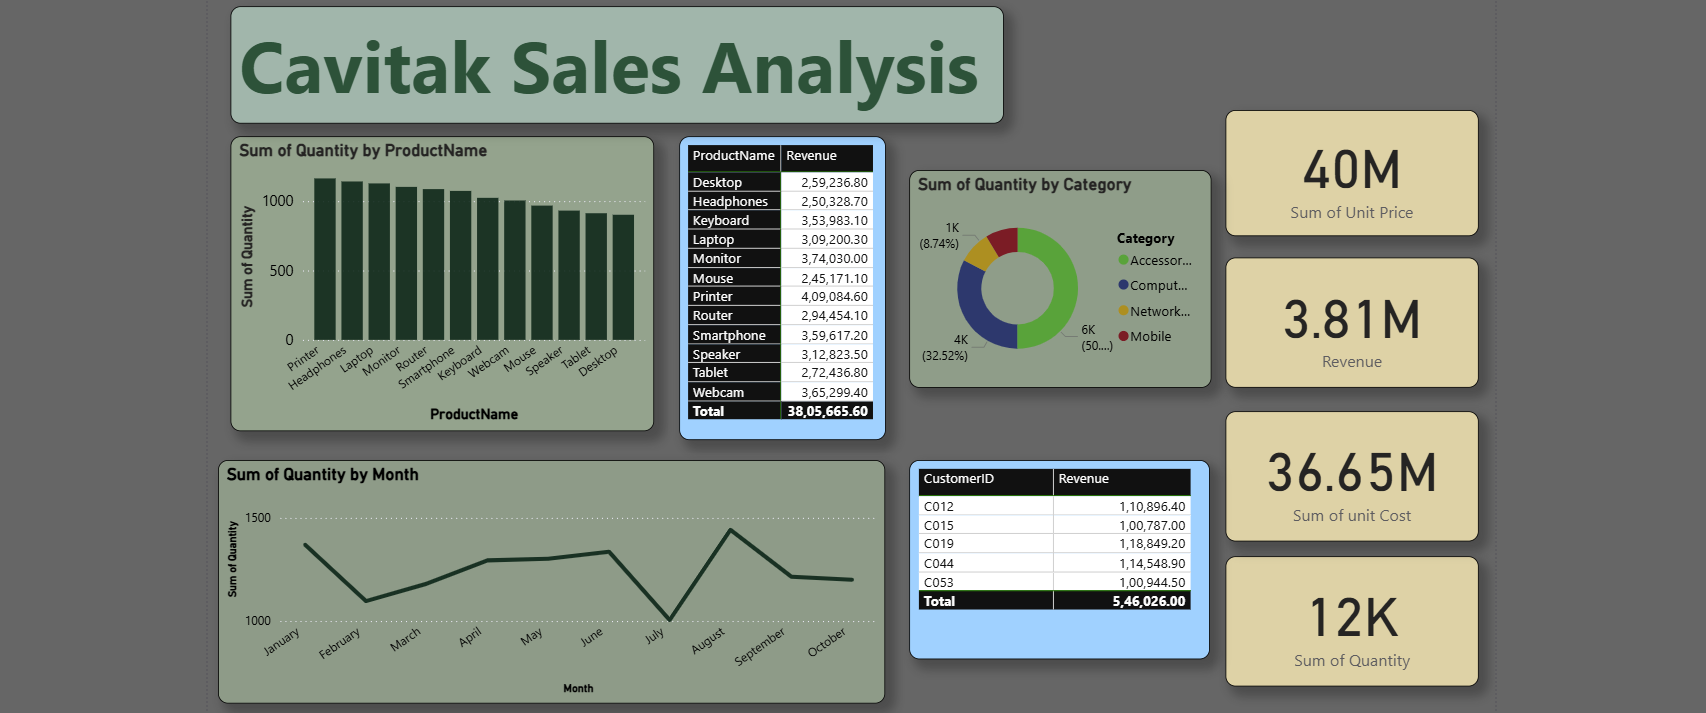

The dashboard page shown, as its layout file describes it:
{"tool":"powerbi","page":{"name":"Page 1","canvas":[1280,720],"ordinal":0},"visuals":[{"type":"card","fields":{"Values":["Sum(Sales.Quantity)"]},"box":[1012,563,252.3,129.7],"z":0},{"type":"card","fields":{"Values":["Sum(Sales.unit Cost)"]},"box":[1012,419.1,252.3,129.7],"z":1},{"type":"card","fields":{"Values":["Sum(Sales.Unit Price)"]},"box":[1012,119.7,252.3,125.4],"z":2},{"type":"columnChart","fields":{"Category":["Products.ProductName"],"Y":["Sum(Sales.Quantity)"]},"box":[22.8,145.4,421.9,293.6],"z":3},{"type":"lineChart","fields":{"Y":["Sum(Sales.Quantity)"],"Category":["Sales.Date.Variation.Date Hierarchy.Month"]},"box":[10,467.5,664.2,242.3],"z":4},{"type":"tableEx","fields":{"Values":["Sales.CustomerID","Sales.Revenue"]},"box":[698.4,467.5,299.3,198.1],"z":5},{"type":"donutChart","fields":{"Category":["Products.Category"],"Y":["Sum(Sales.Quantity)"]},"box":[697.9,179.1,301,216.4],"z":6},{"type":"card","fields":{"Values":["Sales.Revenue"]},"box":[1012,266.5,252.3,129.7],"z":8},{"type":"pivotTable","fields":{"Rows":["Products.ProductName"],"Values":["Sales.Revenue"]},"box":[469,145.5,205.3,302.3],"z":9},{"type":"textbox","box":[22.8,15.7,769.7,116.9],"z":10}]}

Visuals, with their boxes in screenshot pixels (x1, y1, x2, y2):
card - Sum(Sales.Quantity): {"x1": 1221, "y1": 555, "x2": 1476, "y2": 686}
card - Sum(Sales.unit Cost): {"x1": 1221, "y1": 410, "x2": 1476, "y2": 541}
card - Sum(Sales.Unit Price): {"x1": 1221, "y1": 107, "x2": 1476, "y2": 234}
columnChart - Products.ProductName x Sum(Sales.Quantity): {"x1": 223, "y1": 133, "x2": 649, "y2": 430}
lineChart - Sum(Sales.Quantity) x Sales.Date.Variation.Date Hierarchy.Month: {"x1": 210, "y1": 459, "x2": 880, "y2": 703}
tableEx - Sales.CustomerID x Sales.Revenue: {"x1": 905, "y1": 459, "x2": 1207, "y2": 659}
donutChart - Products.Category x Sum(Sales.Quantity): {"x1": 904, "y1": 167, "x2": 1208, "y2": 386}
card - Sales.Revenue: {"x1": 1221, "y1": 256, "x2": 1476, "y2": 387}
pivotTable - Products.ProductName x Sales.Revenue: {"x1": 673, "y1": 134, "x2": 881, "y2": 439}
textbox: {"x1": 223, "y1": 3, "x2": 1000, "y2": 121}
